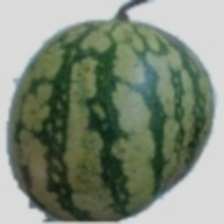watermelon: (41, 19, 176, 220)
